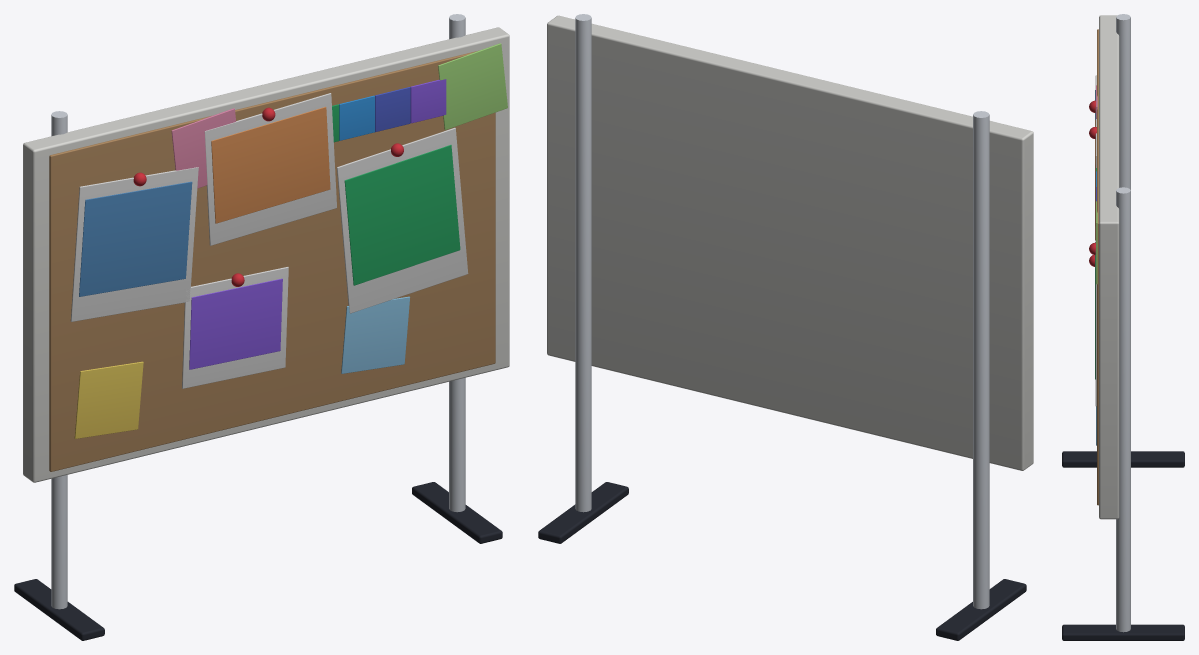
The model's file is mood-board.glb.
3 views of the same model, side by side, from view 1: azimuth 30°, elevation 25°; view 2: azimuth 150°, elevation 25°; view 3: azimuth 270°, elevation 25° (orthographic). The views are drawn at different scales.
Visible parts, largest first — view 1: mood-board-solid, mood-board-metal; view 2: mood-board-solid, mood-board-metal; view 3: mood-board-solid, mood-board-metal.
Boxes of the visible parts, box(x1,y1,x2,y2) form: mood-board-solid: box(14, 27, 509, 640); mood-board-metal: box(51, 14, 465, 609); mood-board-solid: box(538, 15, 1033, 640); mood-board-metal: box(575, 14, 989, 609); mood-board-solid: box(1062, 15, 1184, 640); mood-board-metal: box(1116, 14, 1130, 632).
Bounding box in the file's own units: 0.9595 × 0.96 × 0.2395.
